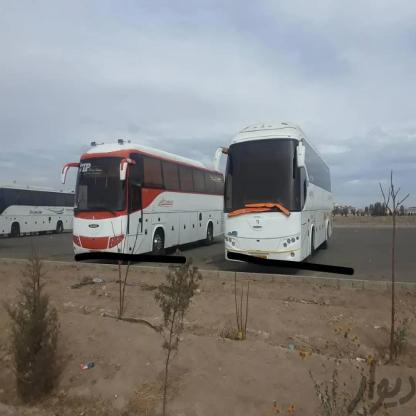Bus: (70, 142, 229, 262), (221, 122, 333, 280), (0, 179, 74, 238)
